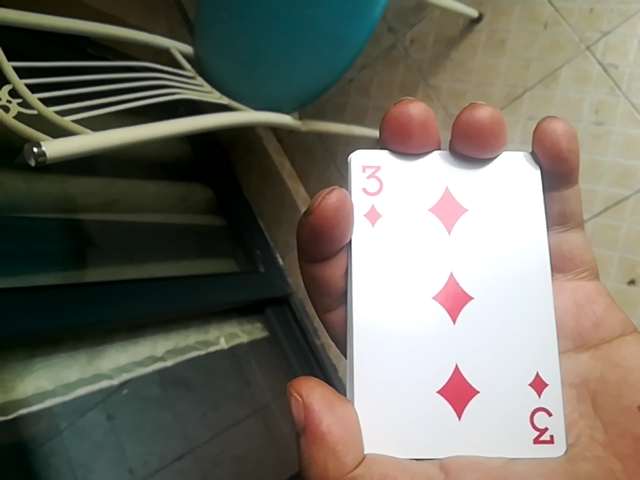fk 3: (340, 143, 562, 471)
